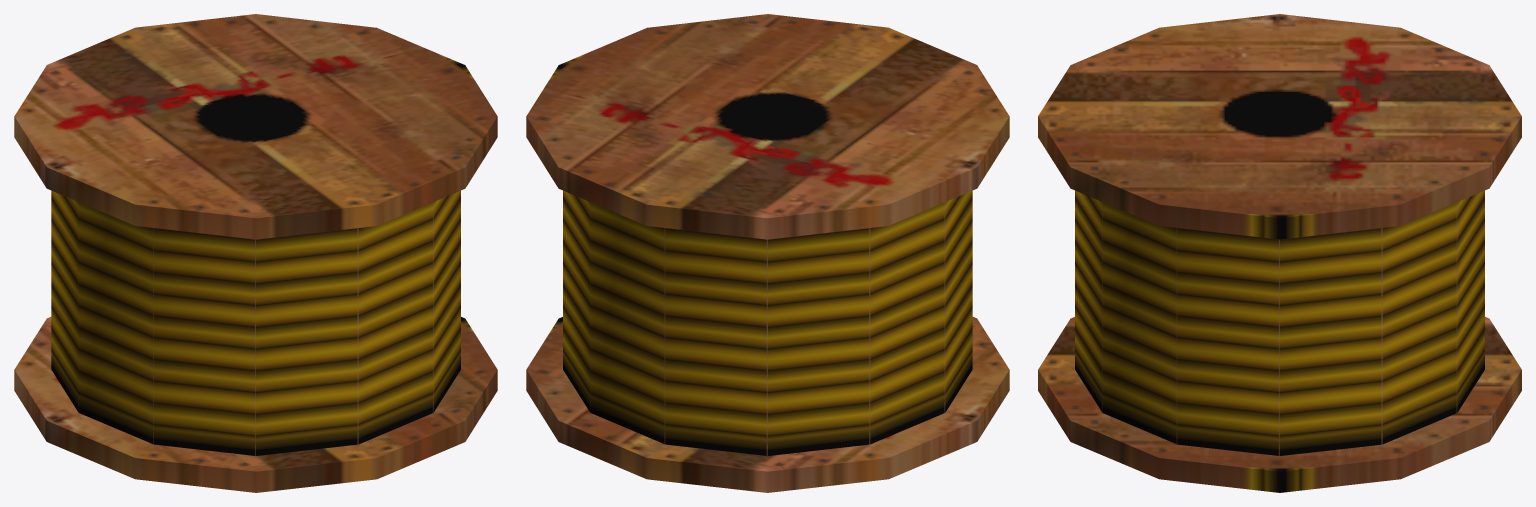
The model's file is Cable_Drum.glb.
The picture shows the model from 3 angles, left to right: view 1: azimuth 30°, elevation 25°; view 2: azimuth 150°, elevation 25°; view 3: azimuth 270°, elevation 25°; orthographic projection.
Parts seen in each view (by area): view 1: CABLE_DRUM; view 2: CABLE_DRUM; view 3: CABLE_DRUM.
Part boxes in pixels (bbox=[...]): CABLE_DRUM: bbox=[14, 14, 497, 492]; CABLE_DRUM: bbox=[526, 14, 1009, 492]; CABLE_DRUM: bbox=[1038, 14, 1521, 492].
Size of the model in its own units: 1.19 by 0.748 by 1.19.
1 material, 1 textured.
